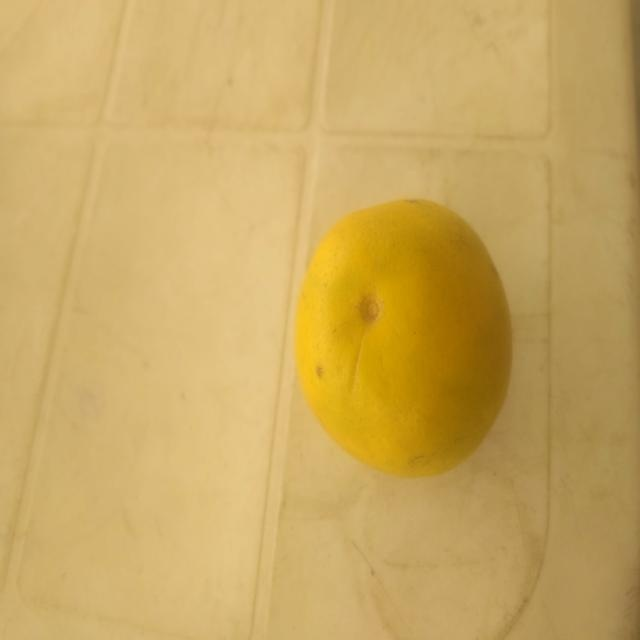agrume: (275, 186, 520, 494)
